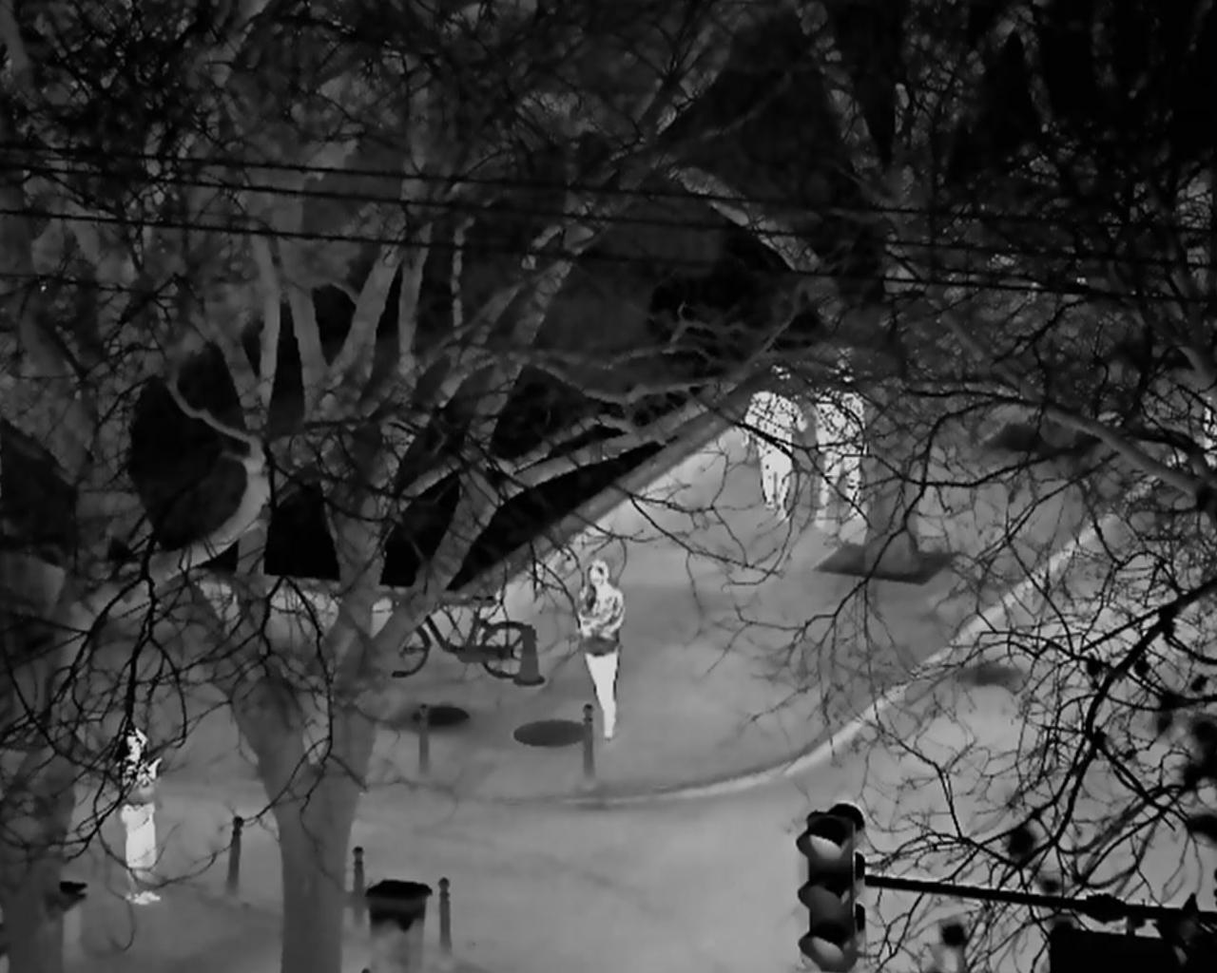person: (112, 723, 165, 909), (574, 560, 625, 739), (743, 391, 805, 525), (810, 388, 867, 527)
